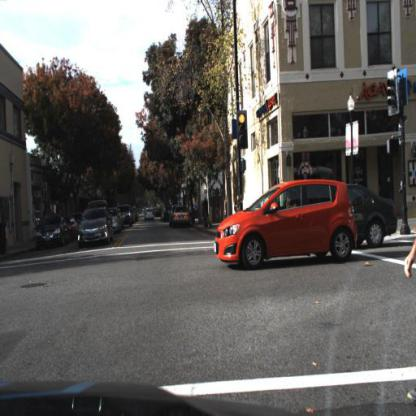car: (212, 177, 357, 272), (348, 179, 399, 252), (78, 208, 113, 247), (38, 216, 70, 248), (172, 207, 192, 229), (112, 208, 125, 235), (122, 203, 134, 230), (143, 205, 157, 225)
pedestrian: (406, 167, 416, 230)
trafficLight: (238, 112, 248, 152)
